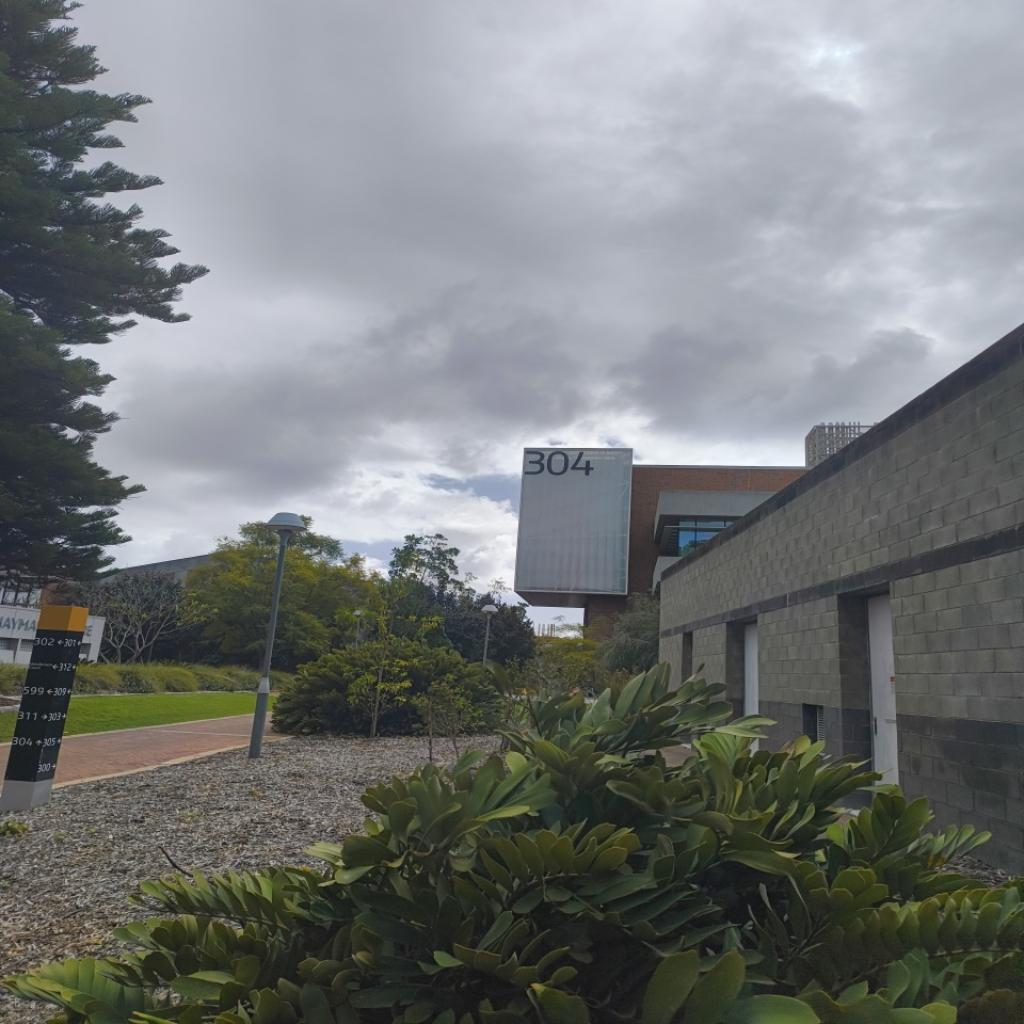BuildingCodes: (524, 448, 598, 482)
